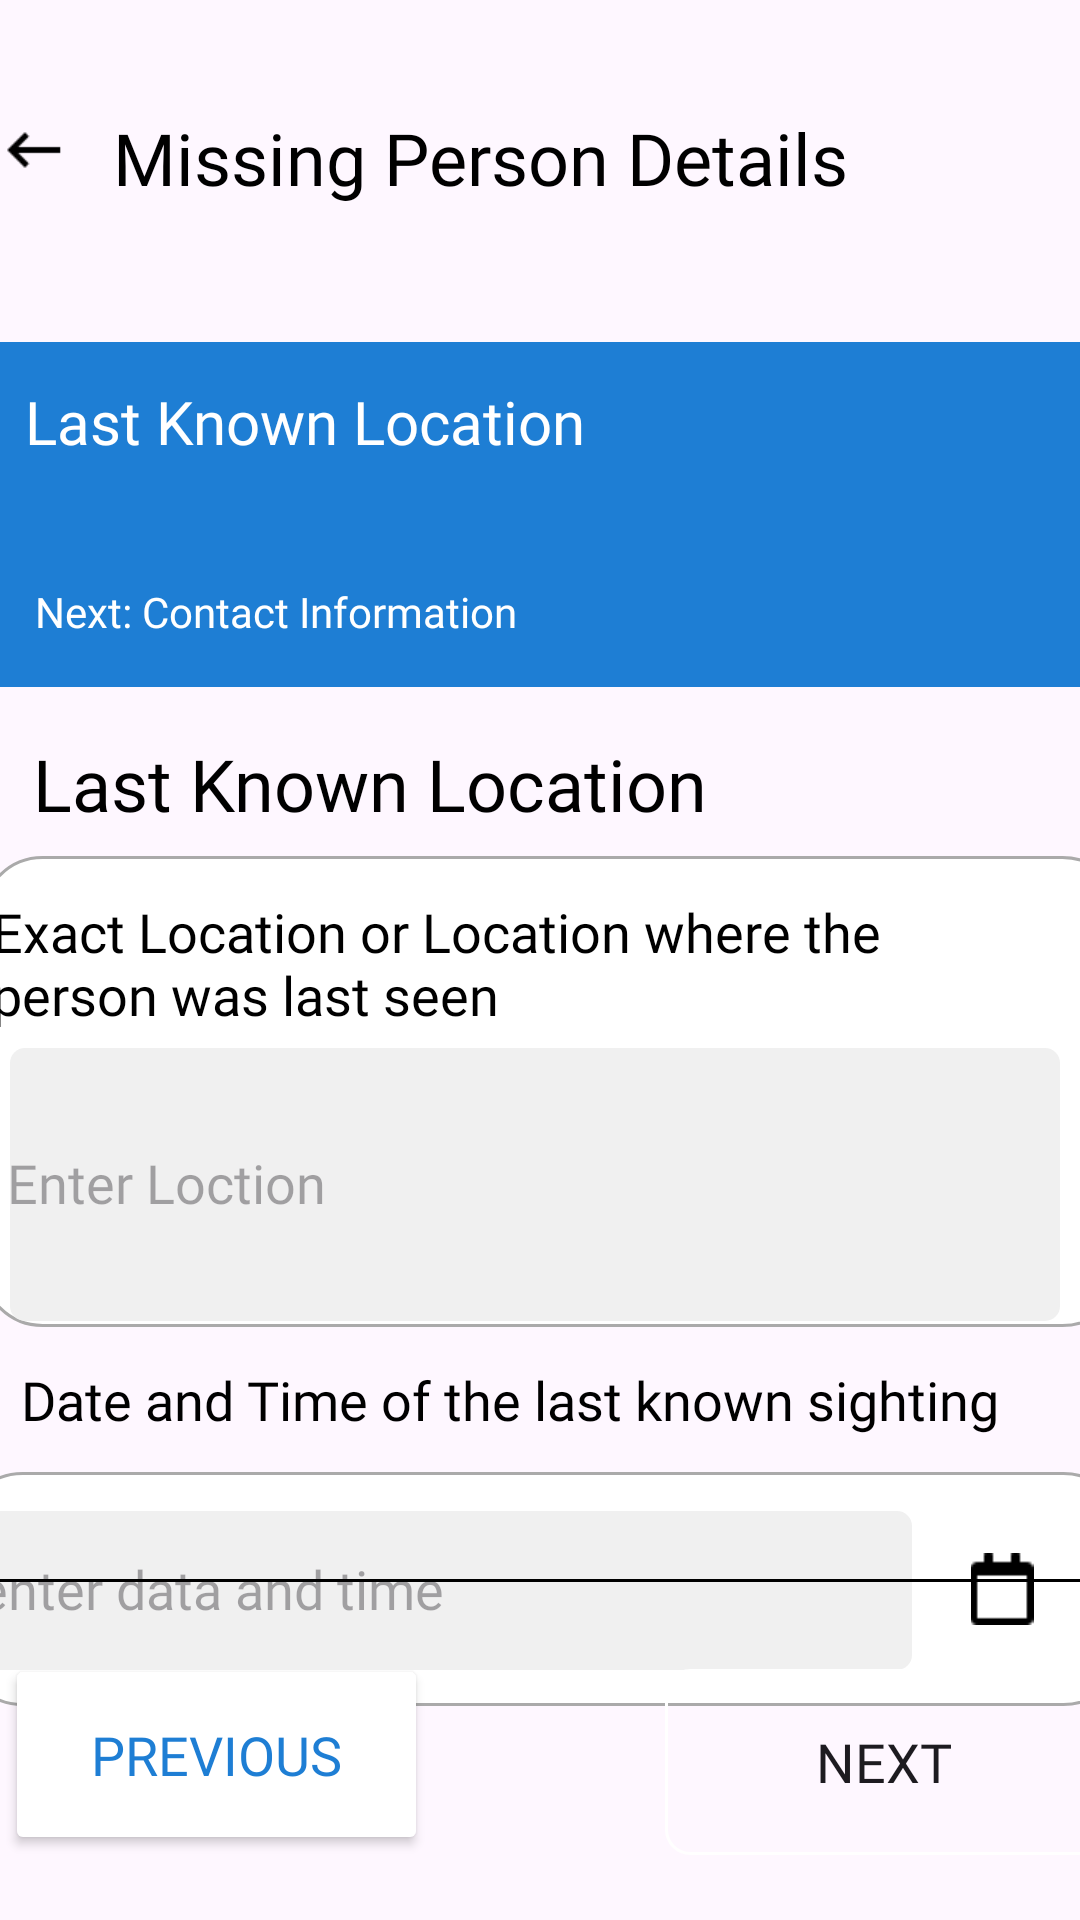

Named icons in this screenshot (1080x1920) and their centers, point (x, y):
arrow: point (34, 150)
calender: point (1002, 1589)
